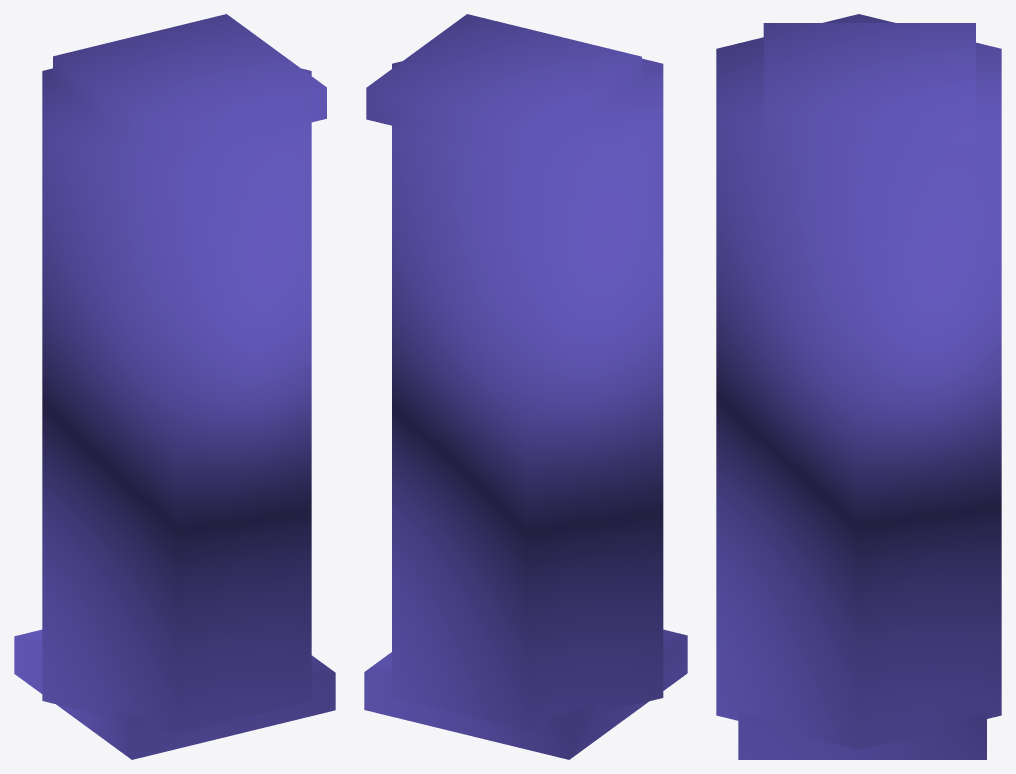
Rendered from ps2_jrpg_sacred_temple_ceremonial_steps.obj.
3 renders of one model, left to right at view 1: azimuth 30°, elevation 25°; view 2: azimuth 150°, elevation 25°; view 3: azimuth 270°, elevation 25°, orthographic. The views are drawn at different scales.
Bounding box in the file's own units: 0.9 × 1.96 × 0.7794.
